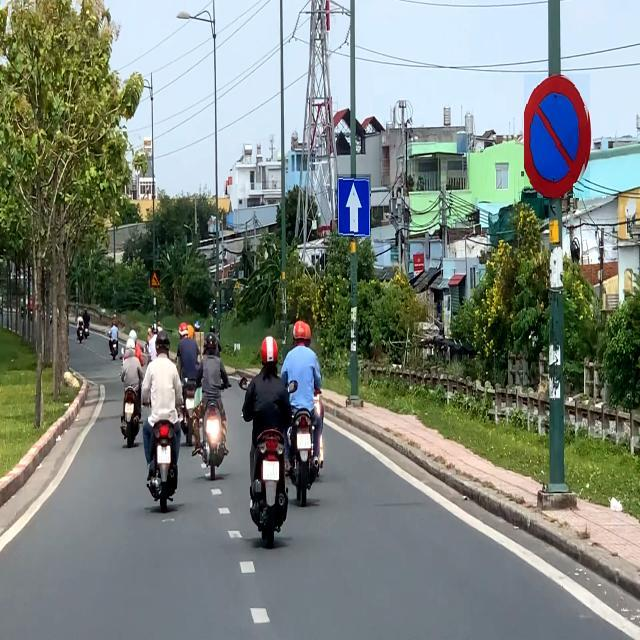P-131a: (524, 74, 590, 198)
R-407a: (337, 174, 371, 237)
W-201a: (150, 271, 160, 289)
